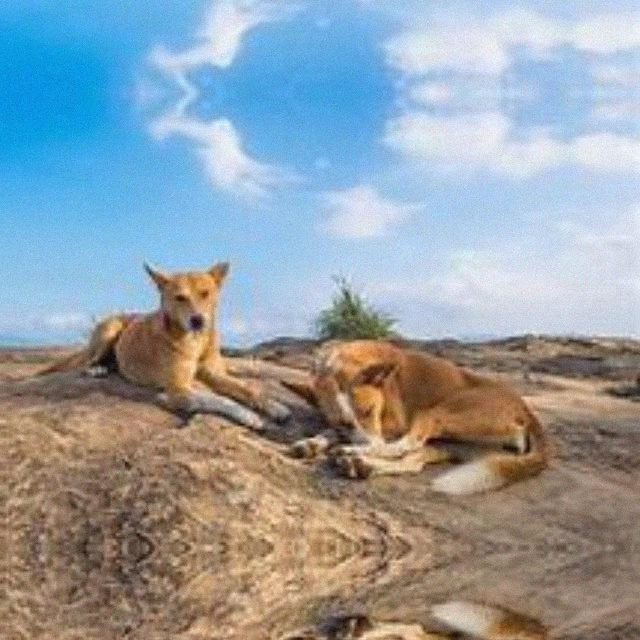dog: (73, 255, 233, 391)
